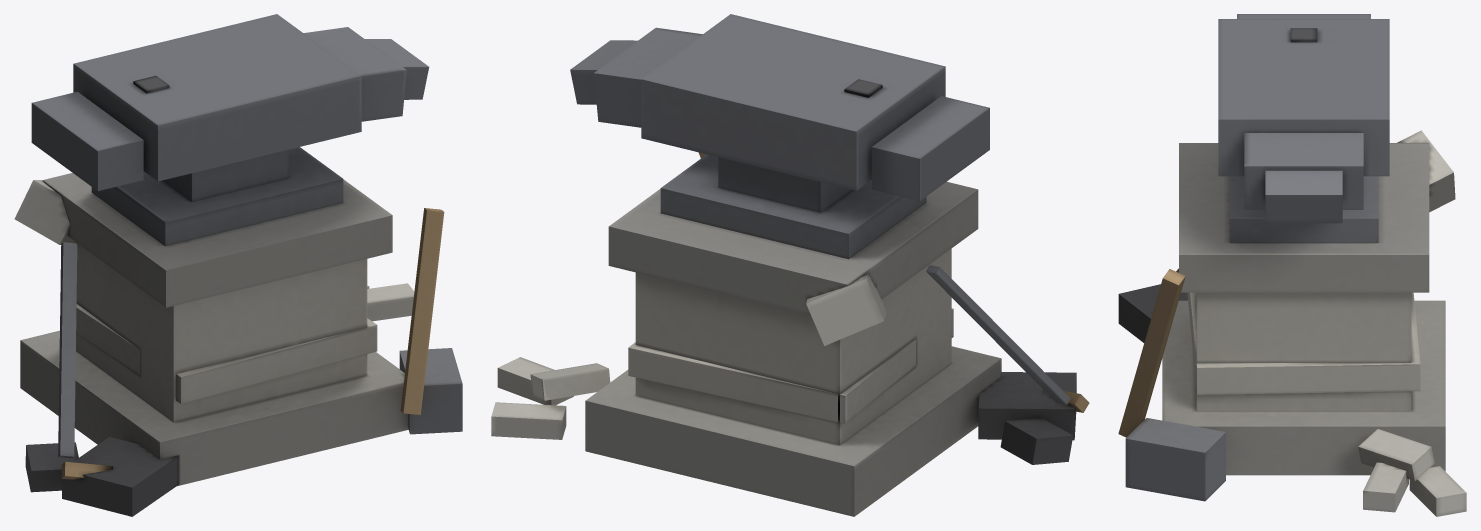
The model's file is anvilplinth.glb.
3 views of the same model, side by side, from view 1: azimuth 30°, elevation 25°; view 2: azimuth 150°, elevation 25°; view 3: azimuth 270°, elevation 25° (orthographic). The views are drawn at different scales.
Parts seen in each view (by area): view 1: anvilplinth; view 2: anvilplinth; view 3: anvilplinth.
Part boxes in pixels (bbox=[...]): anvilplinth: bbox=[14, 14, 462, 516]; anvilplinth: bbox=[491, 14, 1089, 516]; anvilplinth: bbox=[1118, 14, 1466, 516].
Bounding box in the file's own units: 3.62 × 2.58 × 2.34.
6 materials, 6 textured.
